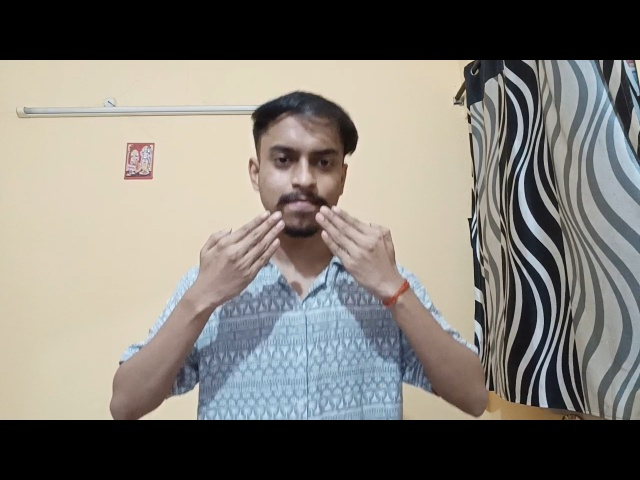Thank you: (178, 194, 444, 390)
